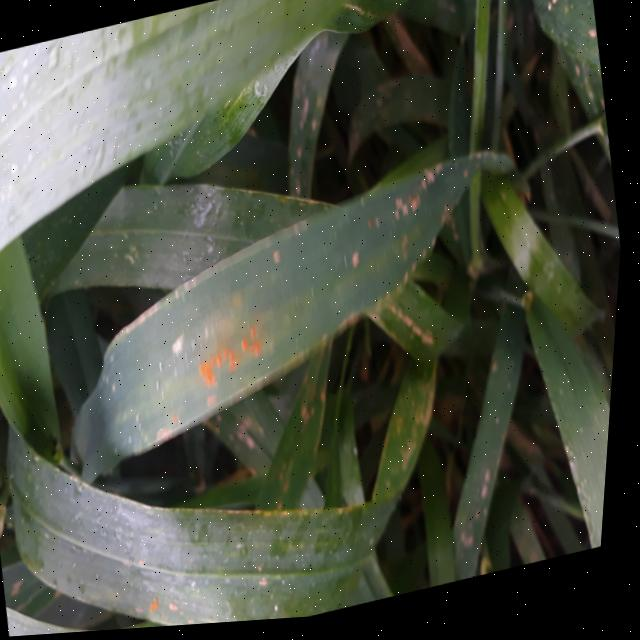orang_rust: (190, 311, 301, 401)
powder_mildew: (232, 298, 489, 625), (323, 110, 507, 340), (422, 326, 563, 590), (503, 0, 629, 216), (218, 46, 365, 217), (118, 521, 200, 632), (568, 441, 615, 561)
